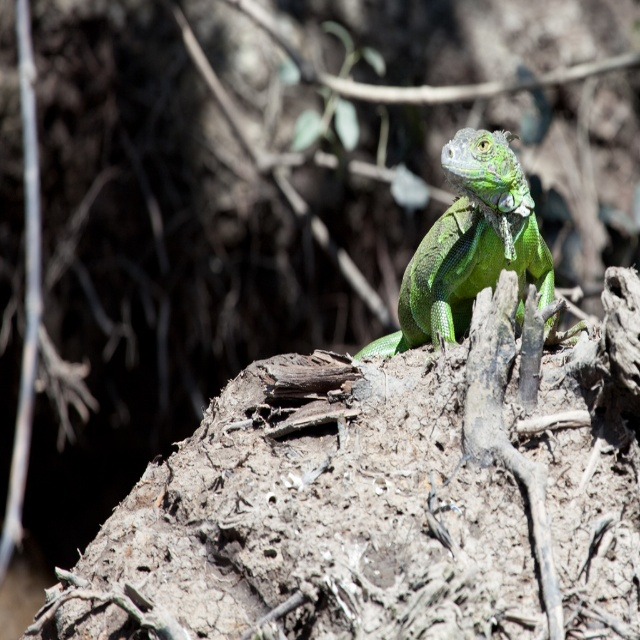Lizard: (396, 126, 552, 377)
